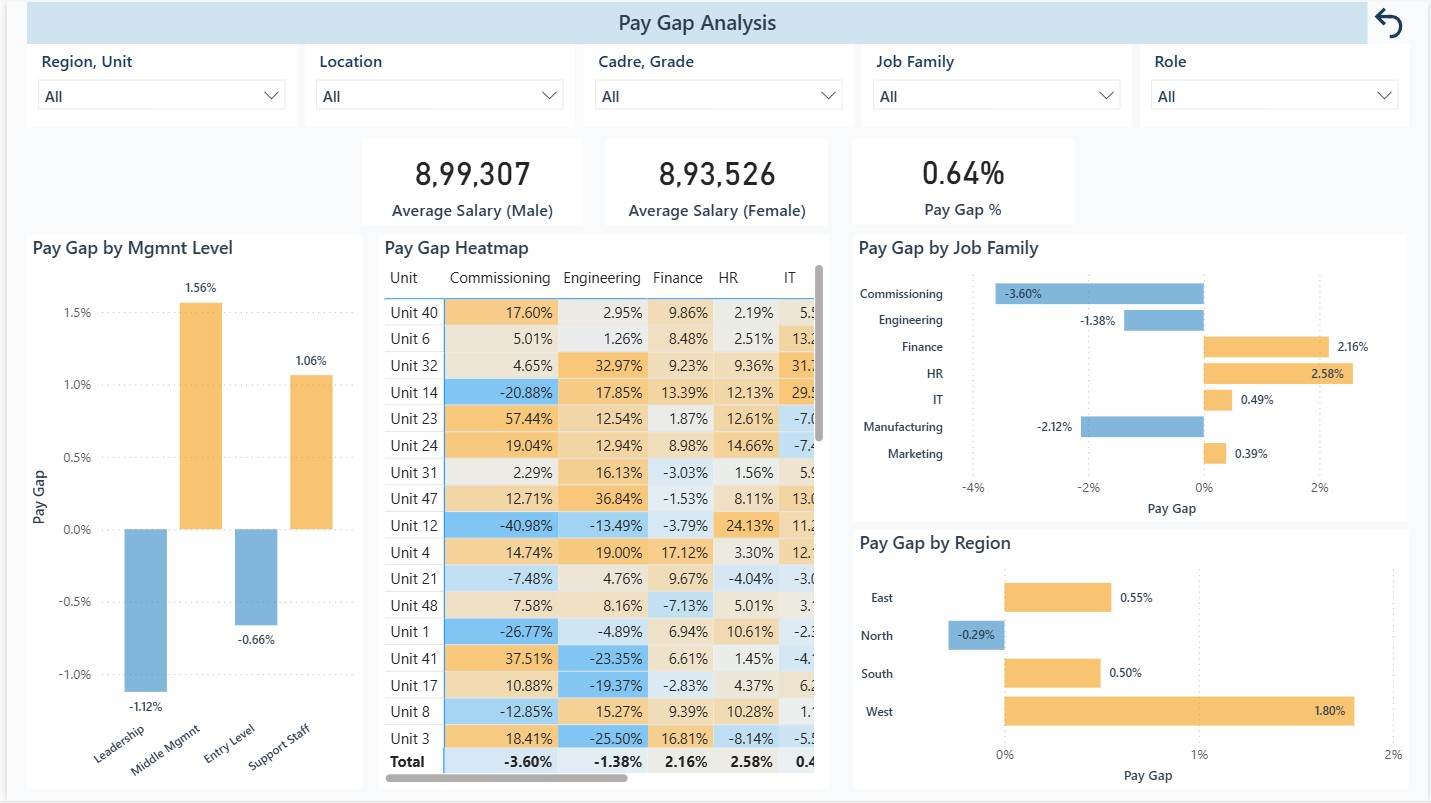

This screenshot's page, from the dashboard's own definition file:
{"tool":"powerbi","page":{"name":"Pay  Gap Analysis","canvas":[1280,720],"ordinal":5},"visuals":[{"type":"textbox","box":[18.3,0,1207.9,37.9],"z":0},{"type":"slicer","fields":{"Values":["DIM_Unit_Master.Region","DIM_Unit_Master.Unit"]},"box":[18.2,37.6,243,74.9],"z":0,"group":"g1"},{"type":"card","fields":{"Values":["PR_DIV_FACT_EMPLOYEE_MASTER.Gender Pay Gap"]},"box":[761.6,123.5,200.5,77],"z":0,"group":"g2"},{"type":"group","id":"g1","title":"Group 1","box":[18.2,37.6,1244.6,75],"z":1000},{"type":"slicer","fields":{"Values":["DIM_Location_Master.Location"]},"box":[269,37.6,243,74.9],"z":1000,"group":"g1"},{"type":"card","fields":{"Values":["PR_DIV_FACT_EMPLOYEE_MASTER.Average Salary"]},"box":[540.4,123.5,200.5,78.2],"z":1000,"group":"g2"},{"type":"actionButton","box":[1226.3,0,37.5,37.5],"z":2000},{"type":"slicer","fields":{"Values":["DIM_Grade_Master.Cadre","DIM_Grade_Master.Grade"]},"box":[519.8,37.6,243,74.9],"z":2000,"group":"g1"},{"type":"card","fields":{"Values":["PR_DIV_FACT_EMPLOYEE_MASTER.Average Salary"]},"box":[320.3,123.5,199.3,78.2],"z":2000,"group":"g2"},{"type":"slicer","fields":{"Values":["DIM_Job_Master.JOB_FAMILY"]},"box":[770.6,37.6,243,74.9],"z":3000,"group":"g1"},{"type":"columnChart","title":"Pay Gap by Mgmnt Level","fields":{"Y":["PR_DIV_FACT_EMPLOYEE_MASTER.Gender Pay Gap"],"Category":["DIM_Grade_Master.Level"]},"box":[18.3,210.3,302,498.8],"z":3000},{"type":"slicer","fields":{"Values":["DIM_Role_Master.ROLE_NAME"]},"box":[1021.4,37.6,243,74.9],"z":4000,"group":"g1"},{"type":"pivotTable","title":"Pay Gap Heatmap","fields":{"Rows":["DIM_Unit_Master.Unit"],"Values":["PR_DIV_FACT_EMPLOYEE_MASTER.Pay Gap"],"Columns":["DIM_Job_Master.Job Family"]},"box":[335.1,210.4,405.7,498.9],"z":4000},{"type":"group","id":"g2","title":"Group 4","box":[320.3,123.5,641.8,78.2],"z":5000},{"type":"clusteredBarChart","title":"Pay Gap by Job Family","fields":{"Y":["PR_DIV_FACT_EMPLOYEE_MASTER.Gender Pay Gap"],"Category":["DIM_Job_Master.Job Family"]},"box":[762.2,210.4,498.9,258.3],"z":6000},{"type":"clusteredBarChart","title":"Pay Gap by Region","fields":{"Y":["PR_DIV_FACT_EMPLOYEE_MASTER.Gender Pay Gap"],"Category":["PR_DIV_FACT_EMPLOYEE_MASTER.Region"]},"box":[763.5,476.2,500.2,233.1],"z":7000}]}

Visuals, with their boxes in screenshot pixels (x1, y1, x2, y2), scaled from the page's 1280x720 canvas onto the 1431x803 screenshot:
textbox: crop(20, 0, 1371, 42)
slicer - DIM_Unit_Master.Region x DIM_Unit_Master.Unit: crop(20, 42, 292, 125)
card - PR_DIV_FACT_EMPLOYEE_MASTER.Gender Pay Gap: crop(851, 138, 1076, 224)
"Group 1" group: crop(20, 42, 1412, 126)
slicer - DIM_Location_Master.Location: crop(301, 42, 572, 125)
card - PR_DIV_FACT_EMPLOYEE_MASTER.Average Salary: crop(604, 138, 828, 225)
actionButton: crop(1371, 0, 1413, 42)
slicer - DIM_Grade_Master.Cadre x DIM_Grade_Master.Grade: crop(581, 42, 853, 125)
card - PR_DIV_FACT_EMPLOYEE_MASTER.Average Salary: crop(358, 138, 581, 225)
slicer - DIM_Job_Master.JOB_FAMILY: crop(862, 42, 1133, 125)
"Pay Gap by Mgmnt Level" columnChart: crop(20, 235, 358, 791)
slicer - DIM_Role_Master.ROLE_NAME: crop(1142, 42, 1414, 125)
"Pay Gap Heatmap" pivotTable: crop(375, 235, 828, 791)
"Group 4" group: crop(358, 138, 1076, 225)
"Pay Gap by Job Family" clusteredBarChart: crop(852, 235, 1410, 523)
"Pay Gap by Region" clusteredBarChart: crop(854, 531, 1413, 791)
